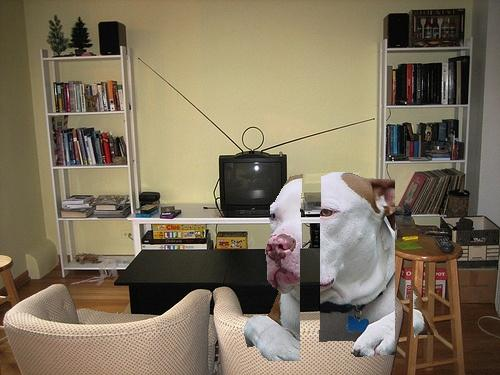tampered: (244, 173, 438, 361)
